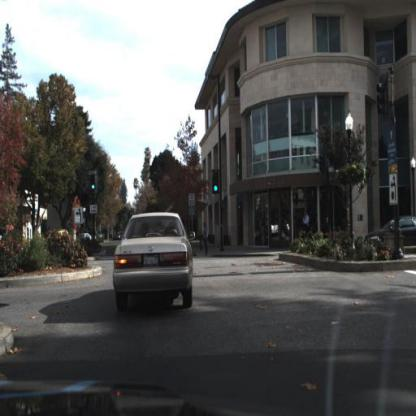car: (113, 208, 197, 315), (363, 214, 416, 247)
pedestrian: (302, 209, 312, 238), (202, 223, 209, 255)
trafficLight: (213, 167, 222, 193), (91, 172, 98, 194)
trafficLight-Green: (213, 172, 221, 196)
